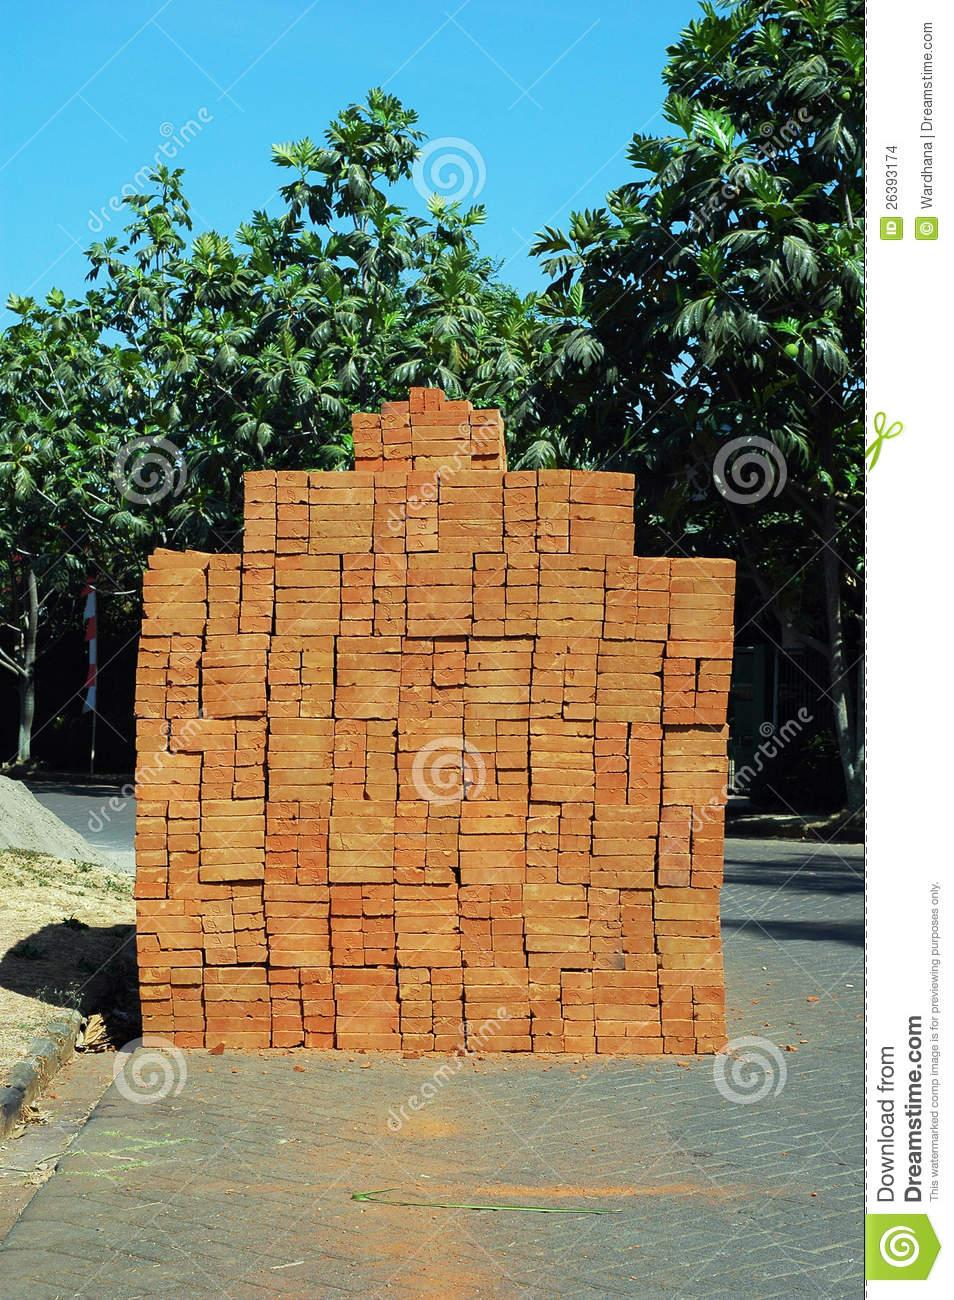brick: (203, 698, 267, 719), (136, 933, 203, 952), (670, 558, 736, 577), (570, 486, 634, 506), (570, 520, 634, 539), (537, 620, 603, 638), (654, 902, 720, 920), (570, 470, 635, 489), (569, 504, 634, 522), (200, 863, 264, 881), (524, 917, 589, 936), (463, 967, 528, 985), (570, 537, 634, 555), (466, 652, 530, 670), (203, 666, 267, 684), (202, 682, 266, 700), (597, 1037, 663, 1054), (530, 751, 593, 769), (333, 968, 396, 986), (596, 1019, 661, 1037), (539, 570, 605, 587), (670, 576, 736, 593), (538, 604, 604, 621), (599, 639, 664, 656), (667, 641, 733, 658), (597, 689, 662, 707), (269, 735, 334, 752), (593, 821, 658, 838), (657, 936, 723, 953), (137, 950, 203, 967), (465, 1002, 530, 1019), (310, 471, 375, 489), (438, 520, 503, 537), (407, 619, 471, 636), (202, 650, 267, 667), (598, 656, 662, 673), (465, 669, 530, 686), (270, 718, 334, 735), (329, 817, 394, 834), (200, 831, 264, 848), (137, 915, 202, 933), (397, 950, 461, 967), (593, 970, 657, 987), (439, 486, 503, 504), (309, 537, 373, 554), (670, 593, 734, 611), (337, 669, 401, 686), (598, 673, 661, 690), (530, 735, 594, 752), (398, 751, 461, 768), (269, 785, 332, 802), (663, 788, 727, 805), (593, 838, 656, 855), (201, 848, 264, 865), (523, 900, 587, 917), (397, 933, 460, 950), (526, 935, 590, 952), (465, 985, 529, 1002), (595, 987, 658, 1004), (657, 953, 724, 969), (337, 1000, 400, 1017), (202, 798, 264, 816), (523, 883, 586, 900), (439, 470, 505, 486), (275, 554, 340, 570), (407, 569, 472, 585), (407, 586, 472, 603), (171, 719, 236, 735), (268, 752, 333, 768), (460, 818, 526, 834), (459, 835, 525, 851), (459, 852, 525, 868), (263, 885, 329, 901), (204, 985, 270, 1001), (595, 1004, 659, 1020), (337, 1033, 402, 1049), (408, 603, 472, 619), (336, 637, 401, 653), (463, 686, 528, 702), (596, 707, 660, 723), (135, 768, 200, 784), (269, 769, 333, 785), (663, 772, 728, 788), (329, 834, 394, 850), (590, 855, 654, 871), (460, 868, 525, 884), (654, 887, 719, 903), (136, 899, 201, 915), (659, 969, 724, 985), (310, 505, 374, 521), (141, 619, 205, 635), (670, 625, 734, 641), (206, 634, 270, 650), (337, 654, 401, 670), (335, 687, 399, 703), (398, 718, 461, 734), (530, 719, 594, 735), (399, 734, 462, 750), (530, 785, 594, 801), (332, 800, 396, 817), (596, 804, 659, 821), (329, 867, 393, 883), (591, 872, 654, 888), (266, 902, 329, 918), (655, 920, 719, 937), (336, 1016, 399, 1033), (439, 504, 502, 520), (310, 521, 373, 537), (439, 537, 502, 553), (143, 569, 206, 585), (670, 609, 733, 625), (335, 702, 398, 719), (465, 703, 528, 720), (665, 724, 728, 740), (532, 768, 595, 784), (396, 916, 458, 933), (204, 968, 267, 984), (461, 801, 528, 817), (270, 951, 331, 967), (205, 1033, 271, 1048), (539, 587, 605, 603), (170, 735, 235, 750), (662, 756, 728, 771), (329, 851, 395, 866), (206, 1001, 271, 1016), (309, 489, 374, 504), (409, 553, 473, 568), (276, 571, 340, 586), (276, 587, 340, 603), (276, 604, 340, 619), (398, 769, 462, 784), (134, 785, 199, 800), (269, 935, 329, 951), (466, 1019, 530, 1035), (142, 603, 206, 618), (276, 620, 339, 635), (663, 740, 727, 755), (400, 785, 463, 800), (395, 900, 458, 915), (529, 953, 593, 968), (334, 985, 398, 1000), (143, 586, 206, 602), (169, 884, 231, 899), (148, 553, 210, 568), (267, 918, 328, 934), (540, 554, 606, 568), (469, 638, 534, 652), (136, 752, 201, 766), (207, 1017, 271, 1032), (467, 1036, 531, 1050), (202, 817, 266, 831), (395, 884, 458, 898), (412, 425, 470, 440), (413, 440, 469, 455), (414, 456, 470, 471), (411, 411, 468, 425), (663, 1037, 696, 1055), (629, 739, 661, 757), (505, 504, 536, 522), (473, 569, 505, 587), (694, 985, 725, 1003), (661, 1002, 694, 1019), (694, 1003, 726, 1020), (167, 668, 199, 685), (300, 700, 332, 718), (630, 722, 662, 739), (692, 871, 724, 888), (332, 949, 364, 966), (593, 953, 625, 970), (597, 721, 627, 739), (267, 802, 300, 819), (394, 817, 427, 833), (532, 1018, 563, 1036), (403, 1034, 434, 1051), (533, 1036, 564, 1053), (505, 488, 536, 505), (538, 502, 569, 519), (407, 534, 438, 551), (606, 572, 637, 589), (507, 586, 538, 604), (607, 589, 638, 607), (638, 590, 669, 608), (434, 652, 465, 669), (269, 652, 300, 669), (596, 756, 627, 773), (233, 781, 264, 798), (429, 800, 460, 818), (693, 839, 724, 856), (659, 854, 691, 871), (362, 898, 394, 915), (234, 912, 266, 930), (459, 917, 491, 935), (462, 950, 494, 967), (301, 967, 332, 984), (529, 967, 560, 984), (235, 748, 264, 766), (142, 1032, 175, 1048), (538, 469, 570, 485), (243, 503, 276, 519), (406, 519, 438, 535), (277, 521, 309, 537), (474, 554, 507, 570), (606, 556, 638, 572), (472, 587, 505, 604), (473, 604, 506, 620), (635, 624, 667, 640), (663, 659, 696, 675), (532, 669, 564, 685), (302, 684, 334, 700), (531, 686, 563, 702), (167, 702, 199, 719), (136, 719, 169, 735), (496, 752, 528, 768), (629, 756, 661, 772), (559, 819, 592, 835), (134, 834, 167, 850), (426, 850, 458, 866), (458, 885, 491, 901), (589, 904, 621, 920), (234, 930, 267, 946), (625, 954, 657, 970), (398, 968, 430, 984), (301, 984, 333, 1000), (399, 984, 431, 1000), (433, 1016, 463, 1034), (639, 557, 669, 574), (527, 850, 557, 867), (394, 867, 424, 884), (621, 904, 651, 922), (203, 915, 233, 933), (204, 932, 234, 949), (304, 1000, 335, 1016), (401, 1001, 432, 1017), (562, 1004, 594, 1020), (662, 1020, 694, 1037), (695, 1020, 726, 1037), (273, 1032, 304, 1048), (697, 1037, 728, 1053), (506, 471, 537, 488), (407, 502, 438, 518), (278, 505, 309, 521), (537, 520, 568, 536), (374, 521, 405, 537), (243, 536, 275, 552), (504, 537, 535, 553), (508, 553, 539, 569), (376, 554, 407, 570), (343, 554, 375, 570), (342, 570, 374, 586), (638, 574, 669, 590), (374, 587, 405, 604), (342, 604, 374, 620), (207, 619, 238, 635), (375, 620, 406, 636), (604, 623, 635, 639), (271, 636, 302, 652), (171, 636, 202, 652), (402, 637, 433, 653), (533, 653, 564, 669), (565, 654, 597, 670), (269, 669, 300, 685), (565, 670, 597, 686), (699, 675, 730, 691), (530, 702, 561, 719), (563, 702, 595, 719), (663, 708, 695, 724), (204, 750, 235, 766), (334, 751, 365, 767), (464, 768, 496, 784), (596, 773, 627, 789), (201, 782, 232, 798), (333, 783, 364, 799), (628, 788, 659, 804), (397, 800, 428, 817), (169, 801, 200, 818), (300, 802, 331, 819), (427, 817, 458, 833), (527, 818, 558, 834), (693, 823, 724, 839), (168, 835, 199, 851), (559, 835, 591, 851), (266, 836, 297, 852), (266, 852, 297, 868), (693, 855, 724, 871), (558, 867, 590, 883), (264, 868, 296, 884), (658, 871, 690, 887), (331, 899, 362, 915), (590, 920, 621, 937), (623, 937, 654, 953), (431, 968, 462, 984), (529, 984, 560, 1000), (562, 988, 594, 1004), (399, 686, 432, 701), (174, 1000, 204, 1016), (530, 1001, 560, 1017), (273, 1014, 303, 1031), (304, 1016, 334, 1033), (564, 1020, 595, 1037), (434, 1035, 464, 1051), (565, 1037, 596, 1053), (375, 471, 407, 486), (538, 485, 568, 502), (375, 504, 405, 520), (244, 520, 277, 535), (538, 536, 568, 552), (508, 569, 538, 585), (208, 570, 240, 585), (605, 607, 637, 622), (637, 608, 669, 623), (567, 638, 598, 654), (302, 652, 334, 667), (138, 652, 169, 668), (136, 668, 167, 684), (434, 669, 464, 685), (135, 685, 166, 701), (664, 691, 695, 708), (399, 701, 431, 717), (134, 701, 165, 718), (695, 708, 727, 723), (335, 735, 365, 751), (366, 736, 397, 752), (596, 740, 626, 756), (464, 752, 495, 768), (202, 767, 234, 782), (630, 772, 660, 788), (465, 784, 498, 799), (136, 818, 167, 834), (268, 819, 298, 835), (659, 822, 690, 838), (427, 834, 457, 850), (395, 850, 425, 866), (136, 850, 167, 866), (425, 867, 455, 883), (526, 867, 556, 883), (297, 868, 327, 884), (492, 884, 522, 900), (589, 887, 619, 903), (492, 901, 522, 917), (493, 918, 523, 935), (364, 932, 395, 948), (493, 936, 525, 951), (591, 938, 623, 953), (237, 946, 268, 962), (206, 948, 236, 964), (494, 952, 526, 967), (172, 968, 202, 984), (432, 984, 462, 1000), (661, 986, 692, 1002), (141, 999, 173, 1014), (142, 1015, 174, 1031), (401, 1017, 432, 1033), (243, 470, 275, 485), (277, 471, 308, 486), (407, 485, 438, 501), (244, 486, 276, 502), (277, 488, 308, 503), (375, 489, 406, 504), (374, 538, 405, 553), (242, 569, 274, 584), (375, 570, 406, 585), (341, 586, 373, 602), (241, 601, 273, 616), (240, 617, 272, 632), (340, 621, 372, 636), (302, 636, 333, 651), (535, 637, 566, 652), (701, 660, 732, 675), (401, 670, 432, 685), (697, 691, 728, 707), (268, 701, 299, 717), (236, 717, 268, 732), (335, 720, 366, 735), (136, 736, 168, 751), (365, 784, 397, 799), (595, 789, 626, 804), (136, 800, 168, 816), (660, 806, 692, 822), (395, 834, 426, 849), (527, 835, 558, 850), (558, 852, 590, 867), (136, 867, 168, 882), (134, 883, 166, 898), (458, 902, 490, 917), (332, 933, 363, 948), (460, 935, 492, 950), (139, 968, 171, 983), (139, 984, 171, 999), (172, 985, 203, 1000), (433, 1000, 462, 1016), (175, 1032, 204, 1048), (367, 720, 397, 736), (299, 819, 328, 835), (298, 835, 327, 851), (562, 971, 592, 987), (506, 521, 536, 536), (243, 553, 274, 568), (209, 603, 239, 618), (376, 604, 406, 619), (507, 604, 537, 619), (473, 621, 504, 636), (170, 653, 200, 668), (302, 668, 332, 683), (664, 676, 695, 691), (271, 685, 301, 700), (432, 686, 462, 701), (432, 702, 462, 718), (464, 720, 495, 735), (497, 736, 527, 751), (465, 737, 496, 752), (334, 768, 364, 783), (366, 769, 397, 784), (562, 802, 593, 818), (694, 806, 724, 822), (659, 838, 690, 853), (364, 949, 395, 964), (269, 968, 299, 983), (305, 1032, 333, 1048), (382, 413, 410, 429), (242, 585, 275, 600), (208, 587, 240, 602), (237, 732, 266, 748), (168, 820, 200, 834), (170, 867, 198, 883), (361, 884, 394, 898), (620, 890, 652, 904), (235, 765, 264, 780), (499, 769, 528, 784), (499, 785, 528, 800), (298, 852, 327, 867), (233, 897, 262, 912), (174, 1016, 205, 1031), (210, 554, 241, 568), (138, 638, 170, 652), (401, 655, 432, 669), (167, 686, 198, 700), (529, 803, 560, 818), (622, 922, 653, 936), (384, 428, 411, 444), (470, 410, 499, 425), (352, 413, 381, 428), (354, 442, 383, 457), (278, 539, 308, 553), (506, 621, 536, 635), (564, 687, 595, 701), (497, 721, 527, 735), (203, 900, 231, 915), (362, 917, 393, 932), (470, 440, 500, 454), (408, 470, 437, 484), (170, 852, 199, 866), (367, 753, 395, 768), (330, 886, 361, 899), (272, 1000, 300, 1014), (271, 984, 299, 998), (331, 918, 361, 932), (384, 444, 411, 458), (471, 456, 501, 469), (435, 640, 466, 652), (410, 387, 424, 413), (471, 426, 500, 439), (352, 428, 381, 441), (355, 458, 384, 471), (384, 458, 412, 471), (382, 401, 409, 414), (232, 885, 261, 897), (424, 389, 438, 411), (440, 401, 468, 410)
